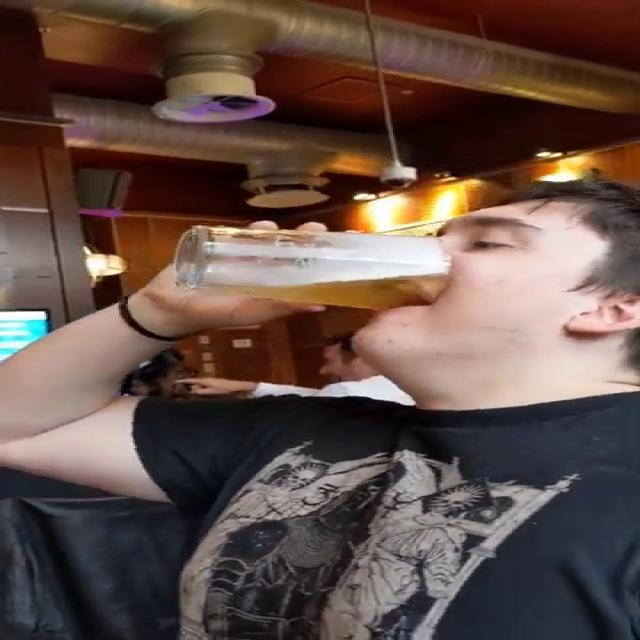Cup: (173, 225, 449, 312)
Hand: (119, 216, 368, 322)
Mouth: (371, 278, 456, 322)
